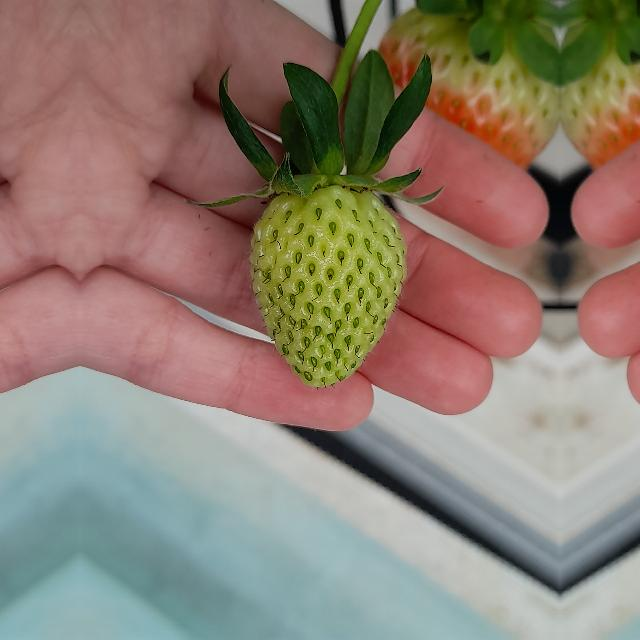Health_25: (249, 185, 407, 387)
